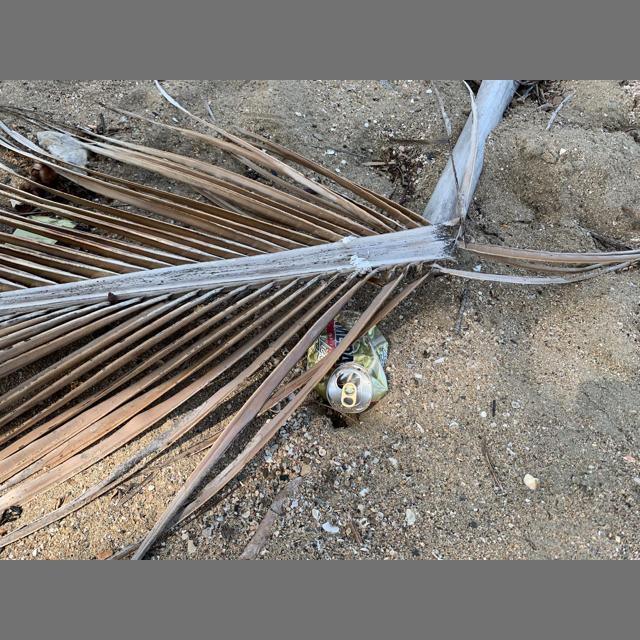litter: (306, 309, 388, 413), (12, 215, 76, 244), (341, 382, 357, 407)
